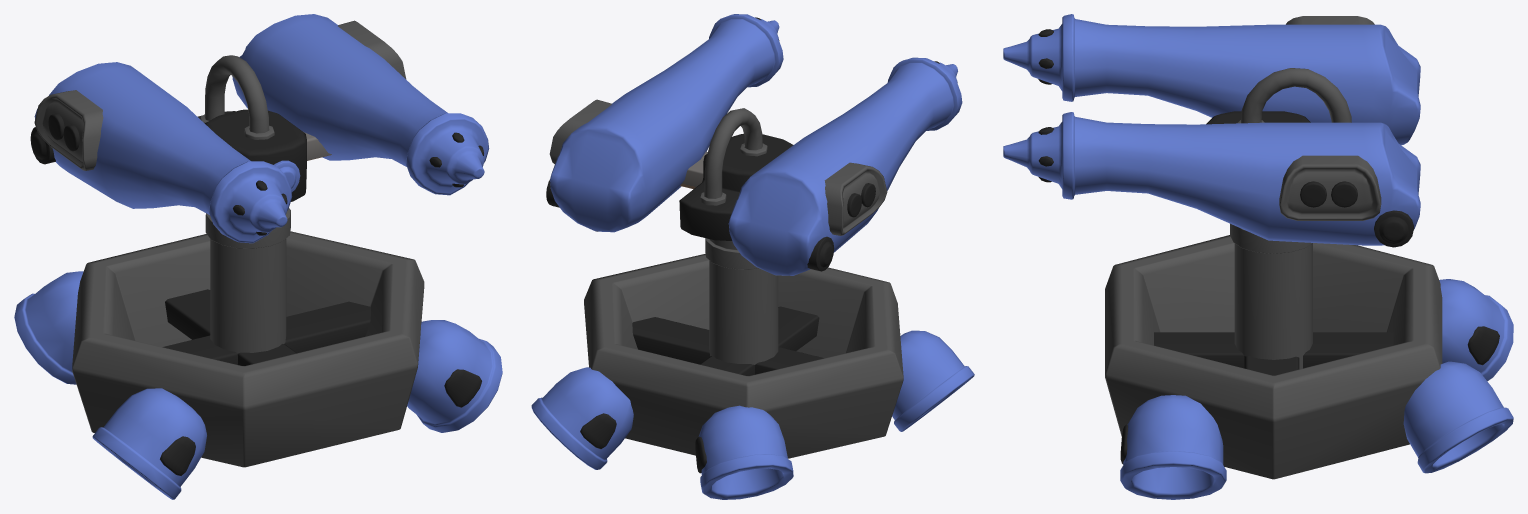
Rendered from _Turel_02.fbx.
3 views of the same model, side by side, from view 1: azimuth 30°, elevation 25°; view 2: azimuth 150°, elevation 25°; view 3: azimuth 270°, elevation 25° (orthographic). The views are drawn at different scales.
Visible parts, largest first — view 1: Turel_02; view 2: Turel_02; view 3: Turel_02.
Boxes of the visible parts, <box> form: Turel_02: <box>14,14,502,499</box>; Turel_02: <box>531,14,974,499</box>; Turel_02: <box>1003,14,1513,499</box>.
Bounding box in the file's own units: 314 × 276 × 348.
Materials: 1 (1 with a texture image).
